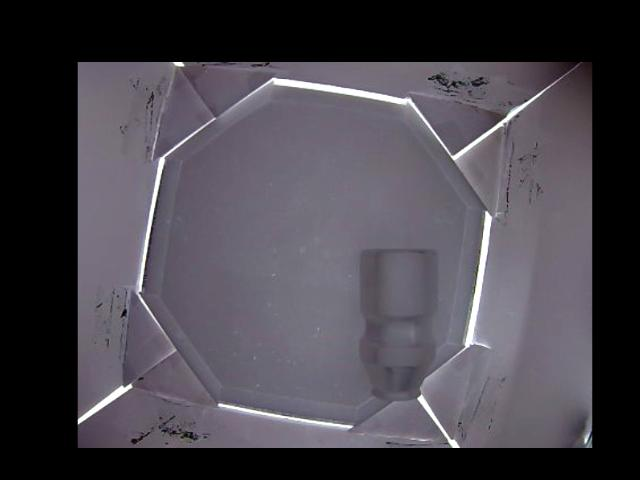Bottle: (357, 246, 439, 398)
